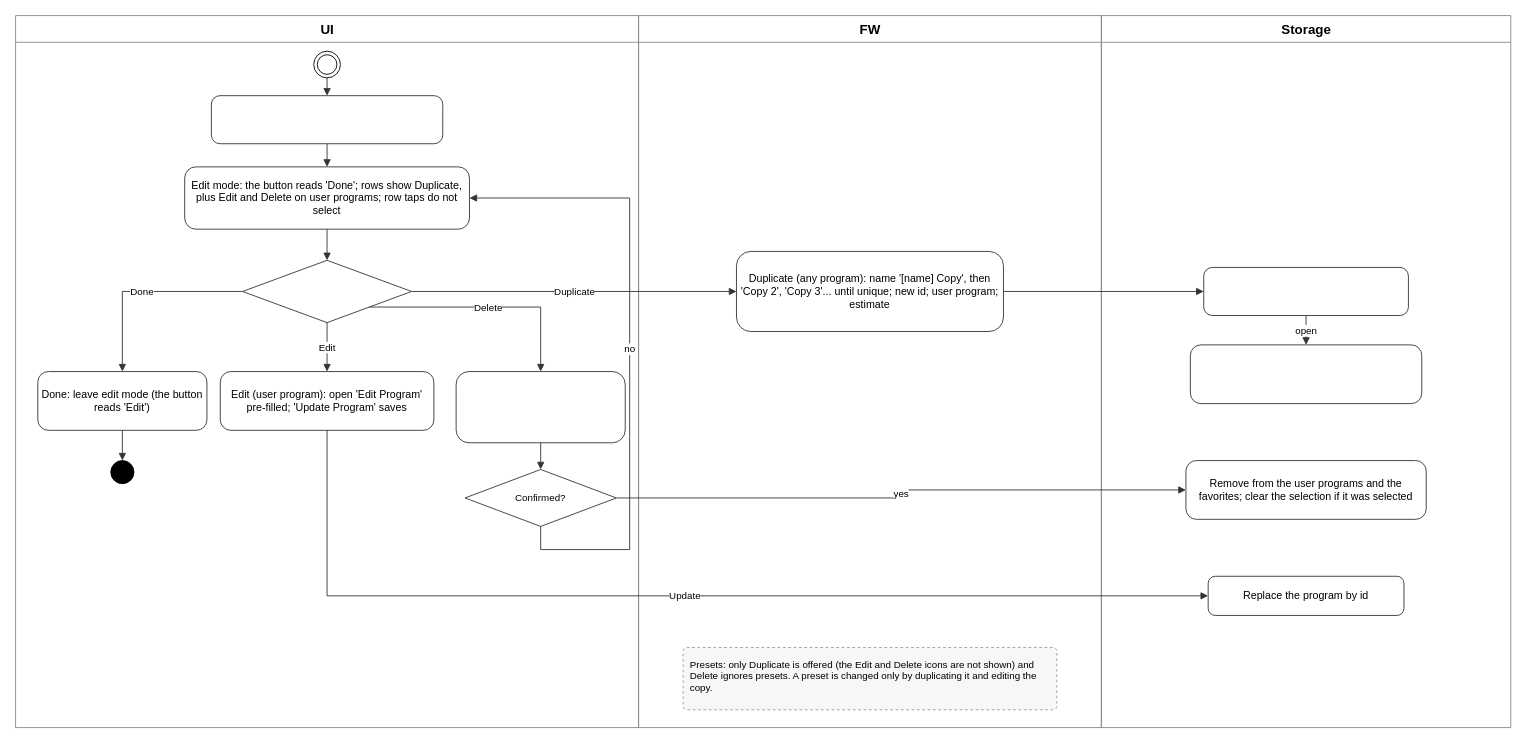
The diagram is 1526 pixels wide and 743 high, and some of its shapes have lost their labels. Each missing label, with the centre of its shape:
Delete (user program): confirm 'Delete “[name]”?' (cannot be undone): the point at 540,407
Open 'Edit Program' on the copy (Section 6.7.1); Cancel keeps the copy: the point at 1305,374
Operator action?: the point at 327,291
Press 'Edit' (shown only when at least one program exists): the point at 326,119
Save the copy to the user programs at once: the point at 1305,291
